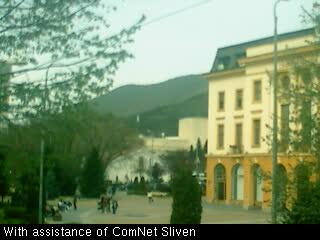person: (98, 194, 105, 214), (112, 198, 119, 215), (106, 195, 112, 214), (73, 194, 78, 211), (147, 192, 152, 204)
